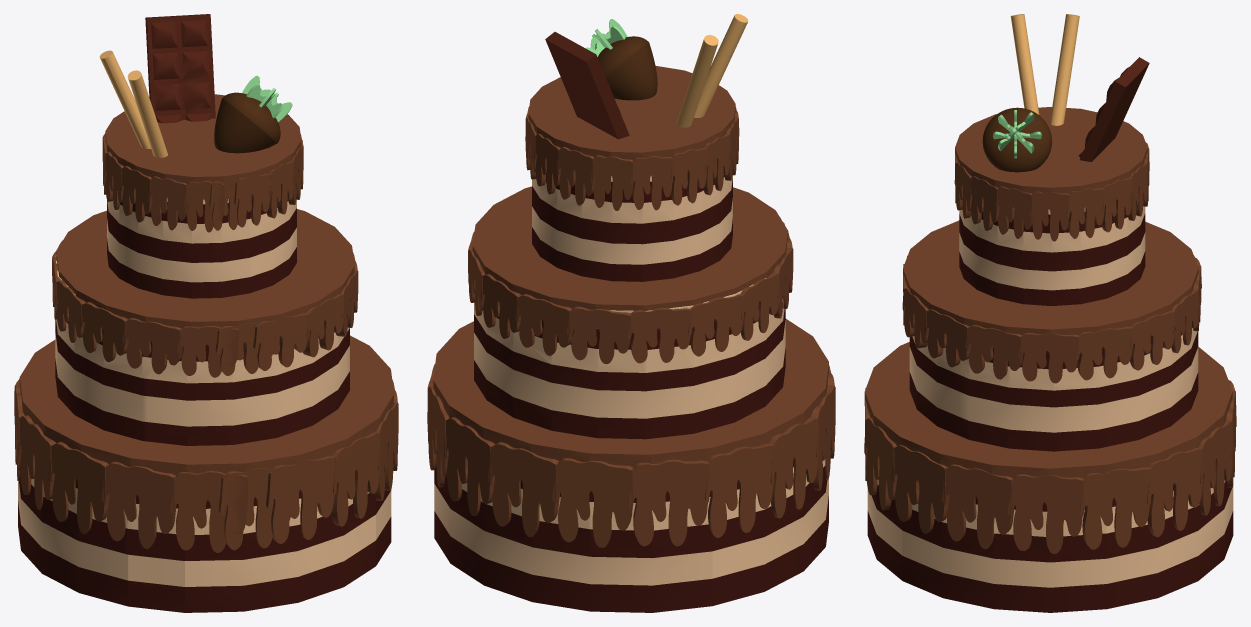
The model's file is chocolate_cake_with_chocolate_covered_strawberry.glb.
3 views of the same model, side by side, from view 1: azimuth 30°, elevation 25°; view 2: azimuth 150°, elevation 25°; view 3: azimuth 270°, elevation 25° (orthographic). The views are drawn at different scales.
Visible parts, largest first — view 1: Object_4, Object_3, Object_6, Object_5, Object_7, Object_2, Object_8, Object_9; view 2: Object_4, Object_3, Object_6, Object_5, Object_7, Object_8, Object_2, Object_9; view 3: Object_4, Object_3, Object_6, Object_5, Object_8, Object_2, Object_7, Object_9.
Boxes of the visible parts, x1,y1,x2,y2 form: Object_4: (14,94,398,552); Object_3: (18,199,391,612); Object_6: (18,198,391,586); Object_5: (15,145,357,533); Object_7: (145,14,215,123); Object_2: (214,92,280,153); Object_8: (99,50,167,157); Object_9: (242,75,292,122); Object_4: (427,65,835,546); Object_3: (434,174,828,612); Object_6: (434,175,828,585); Object_5: (454,114,834,547); Object_7: (545,32,629,139); Object_8: (676,14,748,127); Object_2: (597,36,657,100); Object_9: (586,19,627,56); Object_4: (864,107,1236,553); Object_3: (867,211,1233,612); Object_6: (867,206,1233,587); Object_5: (902,157,1234,506); Object_8: (1010,14,1079,125); Object_2: (982,107,1052,172); Object_7: (1078,57,1149,162); Object_9: (993,110,1041,158).
Size of the model in its own units: 107 by 153 by 107.
